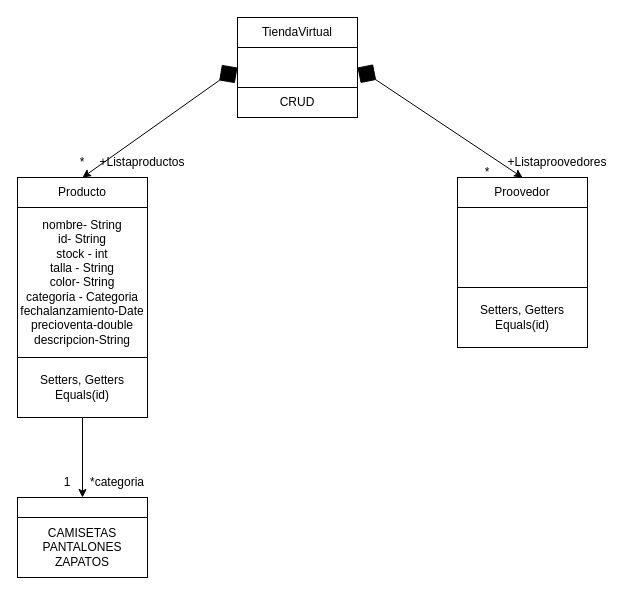
Some shapes in this 624 by 595 pixel diagram are drawn without their labels. Here are the shapes that lost their labels. From the top down, the box of each, then its label:
(236, 46, 358, 88): nombre - String
(456, 206, 588, 288): nombre- String id- String direccion- String numerocontacto- String
(16, 496, 148, 518): Categoria
